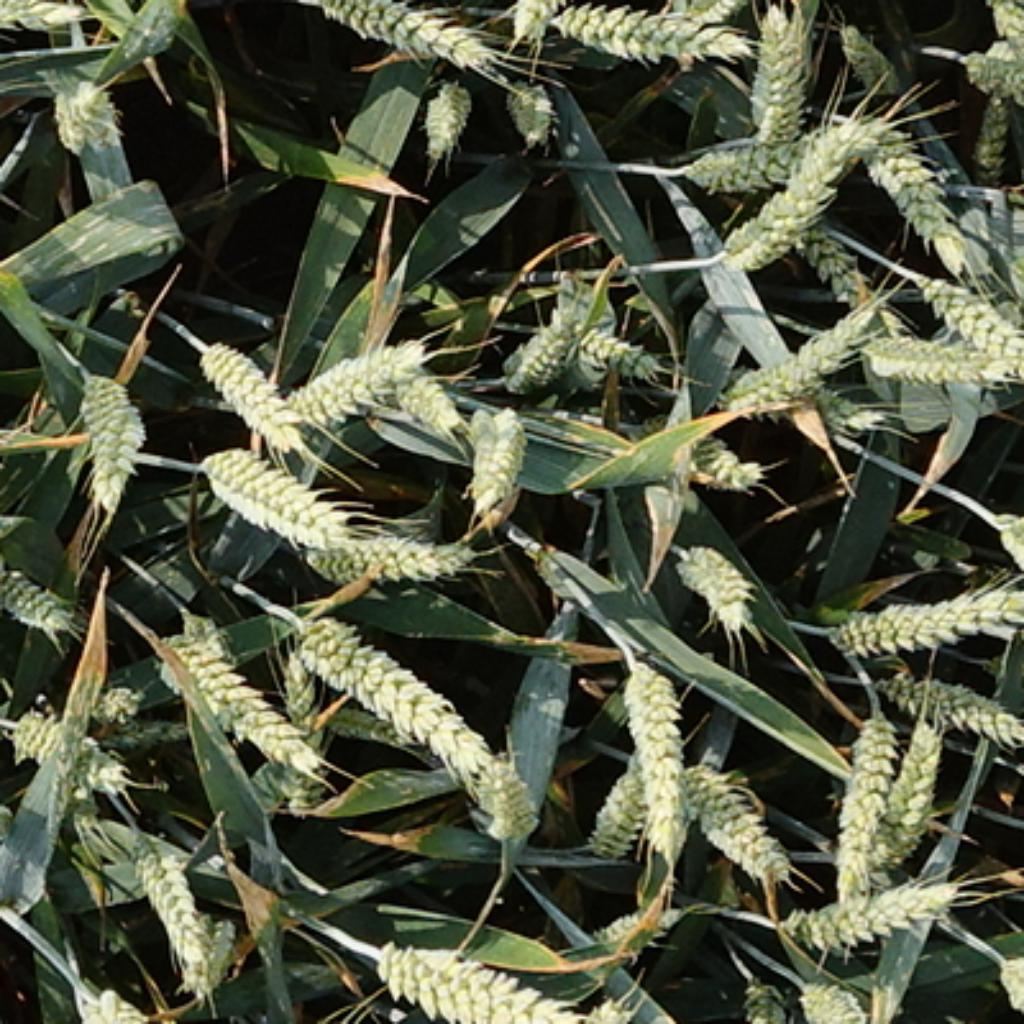0-0: (281, 599, 501, 765), (148, 606, 312, 775), (711, 115, 883, 273), (724, 291, 896, 431), (367, 927, 584, 1024), (596, 655, 691, 855), (120, 832, 233, 998), (670, 739, 793, 880), (194, 437, 353, 545), (828, 573, 1024, 658), (780, 867, 965, 949), (279, 327, 435, 424), (7, 691, 135, 808), (718, 366, 896, 449), (855, 133, 967, 263), (829, 709, 898, 919), (553, 4, 750, 75), (581, 719, 678, 860), (678, 125, 867, 197), (291, 512, 473, 581), (69, 355, 151, 504), (317, 0, 494, 69), (194, 343, 302, 455), (875, 655, 1021, 737), (266, 622, 322, 811), (742, 0, 816, 143), (916, 273, 1024, 368), (875, 719, 942, 870), (43, 64, 130, 172), (860, 317, 1000, 381), (673, 540, 768, 634), (184, 611, 248, 747), (496, 291, 583, 391), (0, 557, 91, 649), (455, 407, 527, 514), (660, 414, 760, 488), (468, 747, 542, 842), (581, 885, 680, 954), (317, 706, 432, 765), (499, 71, 567, 154), (394, 368, 468, 442), (970, 71, 1013, 189), (573, 330, 663, 384), (416, 81, 475, 163), (839, 23, 901, 94), (0, 0, 102, 43), (793, 970, 872, 1024), (957, 43, 1024, 99), (505, 0, 575, 49), (89, 678, 140, 729), (739, 977, 791, 1024), (680, 0, 778, 15)
